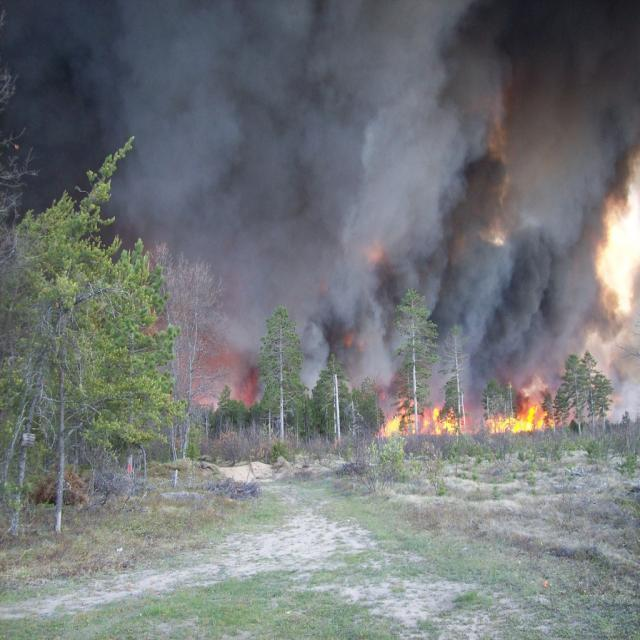Fire: (378, 396, 460, 438), (484, 400, 554, 436)
Smoke: (0, 1, 640, 424)
